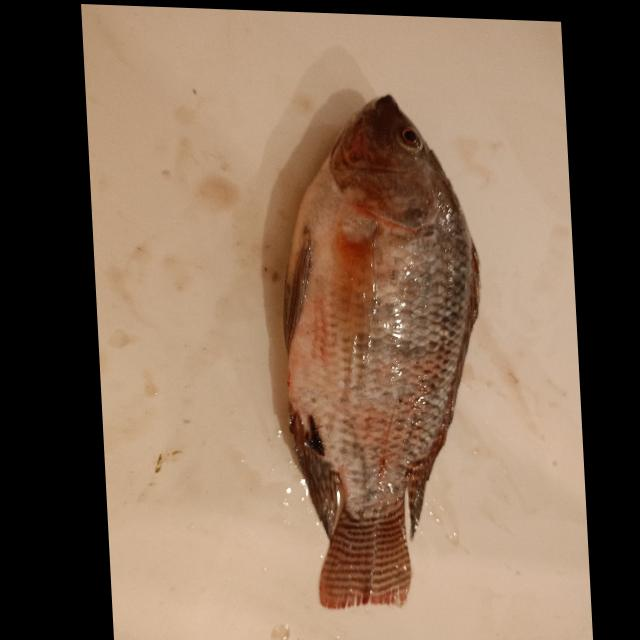Tilapia: (265, 87, 494, 614)
